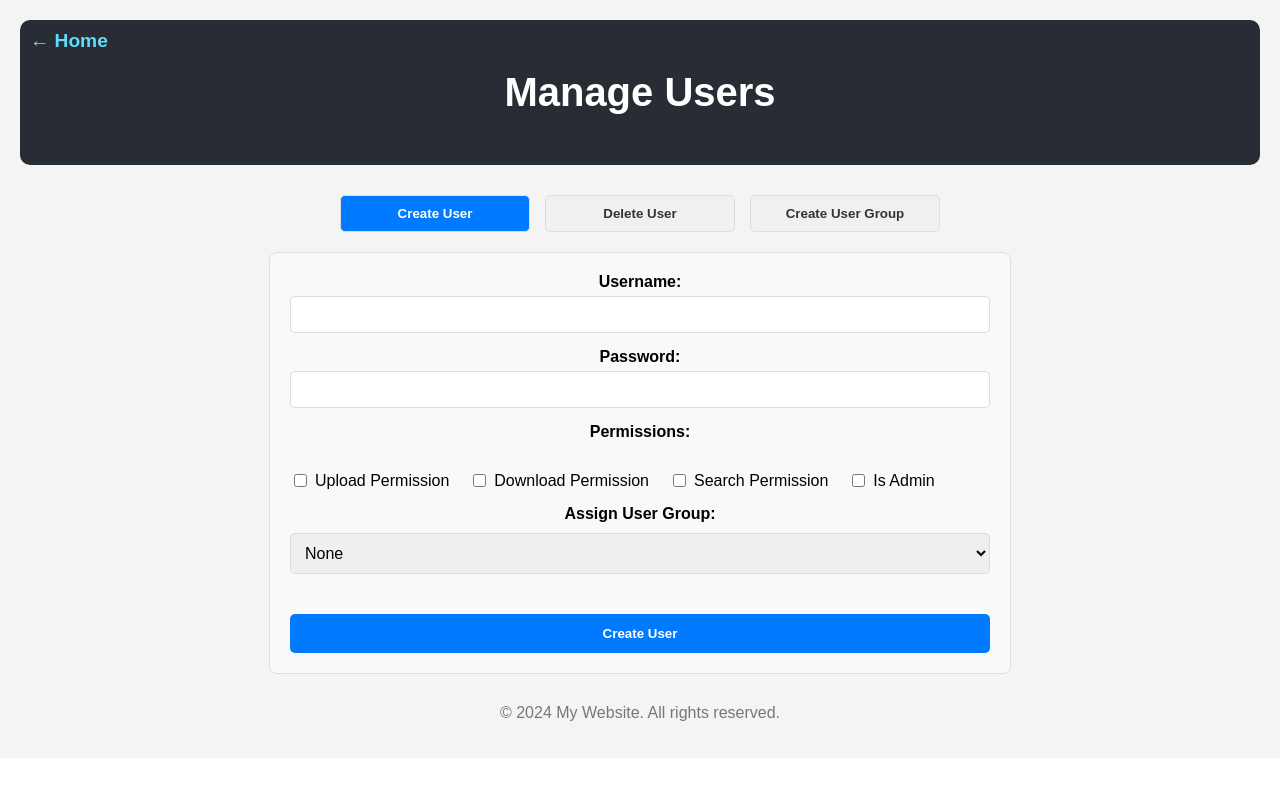
Test: ManageUsers Component › switches to Create User Group mode and shows the user group creation form
Click the button "Create User Group" at (845, 214), box [750, 195, 940, 232]
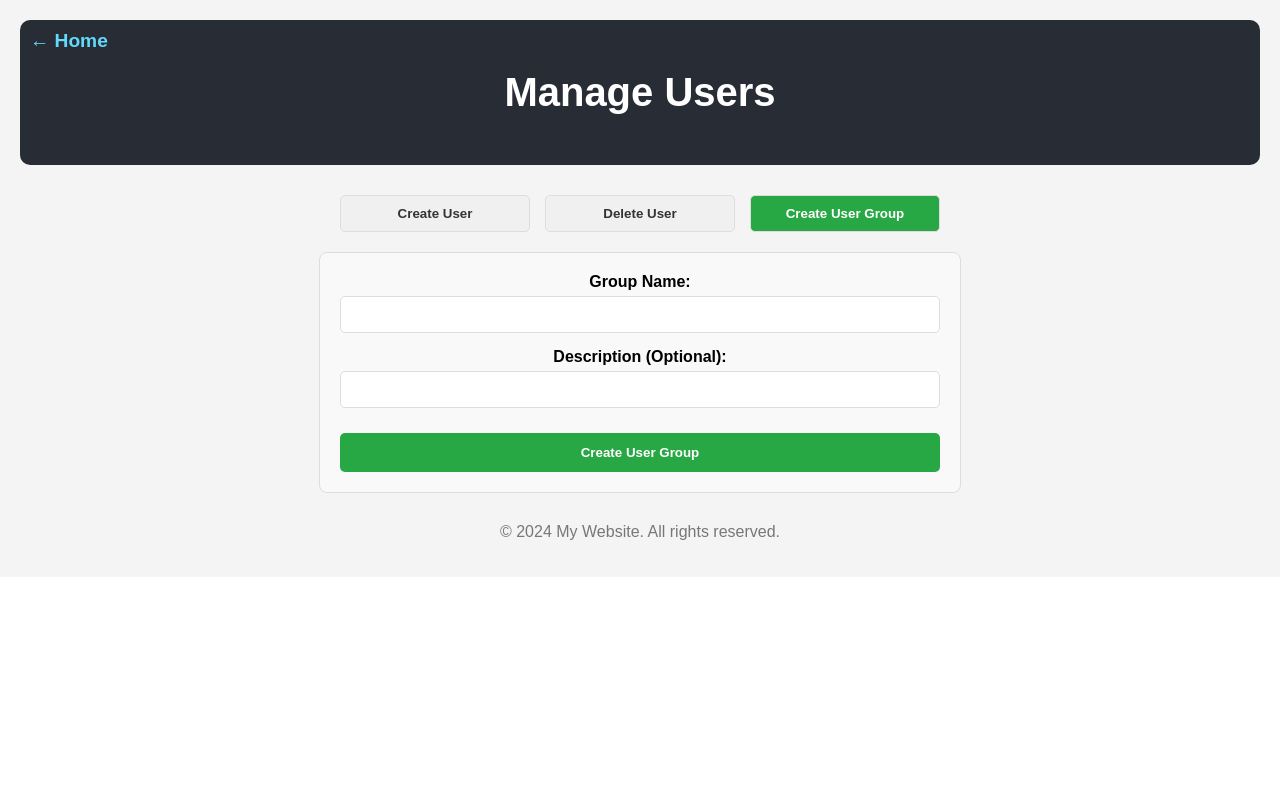
Check: the text "Group Name:" is shown, box [589, 273, 691, 290]
Check: the text "Description (Optional):" is shown, box [553, 348, 727, 365]
